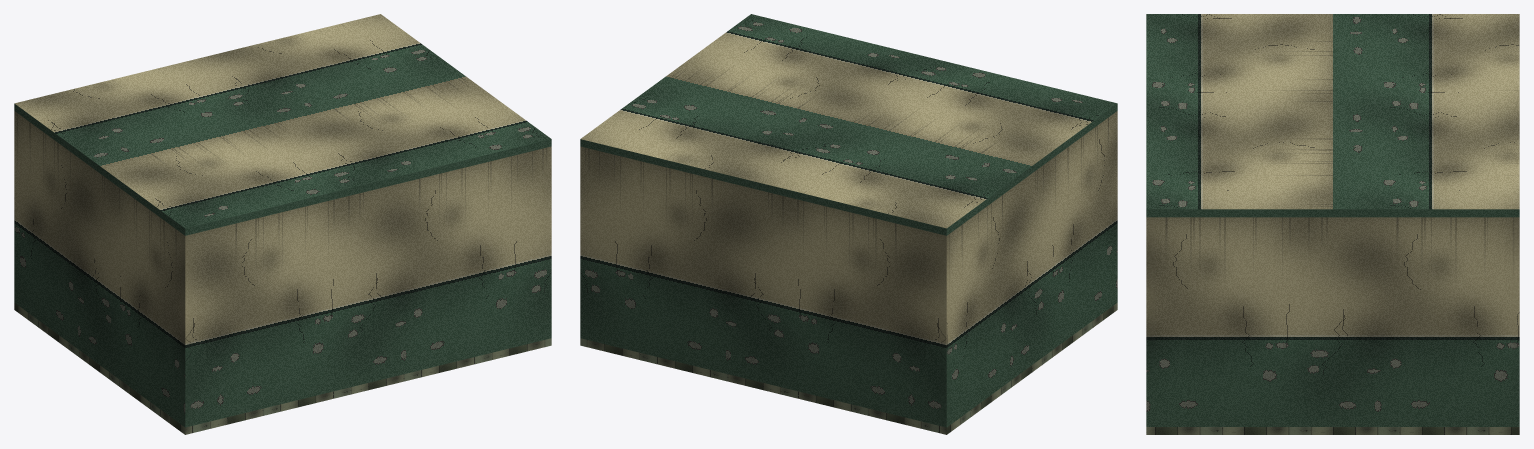
File: ward_probe_v3.glb
The picture shows the model from 3 angles, left to right: view 1: azimuth 30°, elevation 25°; view 2: azimuth 150°, elevation 25°; view 3: azimuth 270°, elevation 25°; orthographic projection. The views are drawn at different scales.
Parts seen in each view (by area): view 1: wall_front, ceiling, wall_left, floor, wall_right; view 2: wall_back, ceiling, wall_left, floor, wall_front; view 3: wall_right, ceiling, floor, wall_back, wall_front.
Part boxes in pixels (<box>): wall_front: <box>181,146,551,427</box>; ceiling: <box>14,14,551,235</box>; wall_left: <box>14,111,192,426</box>; floor: <box>14,303,551,434</box>; wall_right: <box>544,147,550,339</box>; wall_back: <box>580,146,950,427</box>; ceiling: <box>580,14,1117,235</box>; wall_left: <box>939,111,1117,427</box>; floor: <box>580,303,1117,434</box>; wall_front: <box>1113,111,1117,304</box>; wall_right: <box>1146,217,1519,426</box>; ceiling: <box>1146,14,1519,217</box>; floor: <box>1146,427,1519,434</box>; wall_back: <box>1510,217,1519,423</box>; wall_front: <box>1146,217,1155,414</box>.
Bounding box in the file's own units: 5.2 × 2.8 × 4.2.
Materials: 29 (28 with a texture image).
